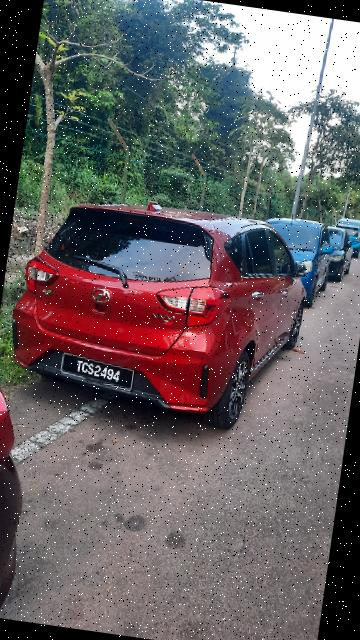License_Plate: (57, 350, 142, 394)
car: (1, 179, 318, 443)
